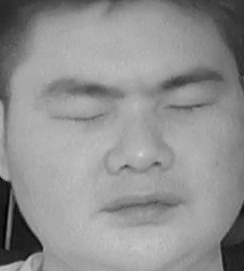blink: (53, 102, 105, 134), (167, 93, 215, 120)
mouth: (97, 183, 185, 232)
